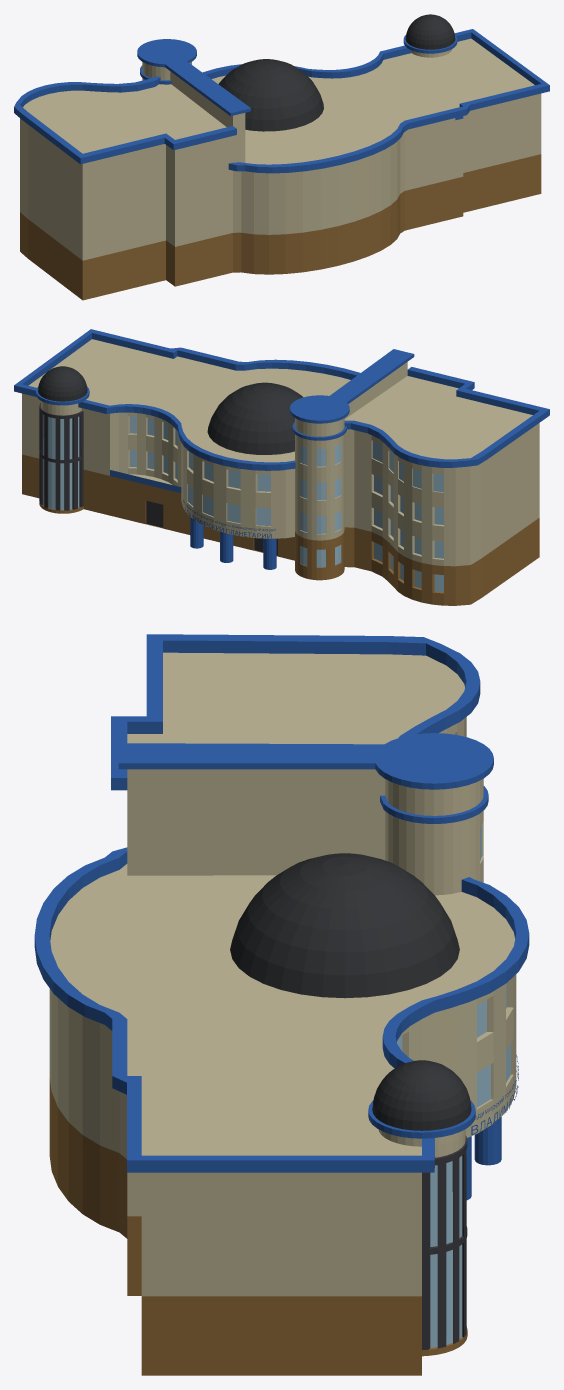
The model's file is Planetarium_Vladimir1.glb.
3 views of the same model, one above another, from view 1: azimuth 30°, elevation 25°; view 2: azimuth 150°, elevation 25°; view 3: azimuth 270°, elevation 25° (orthographic). The views are drawn at different scales.
Visible parts, largest first — view 1: Куб; view 2: Куб; view 3: Куб.
Part boxes in pixels (x1,y1,x2,y2): Куб: (14, 14, 549, 300); Куб: (14, 329, 549, 605); Куб: (34, 634, 529, 1375).
Bounding box in the file's own units: 79.5 × 26.5 × 36.7.
